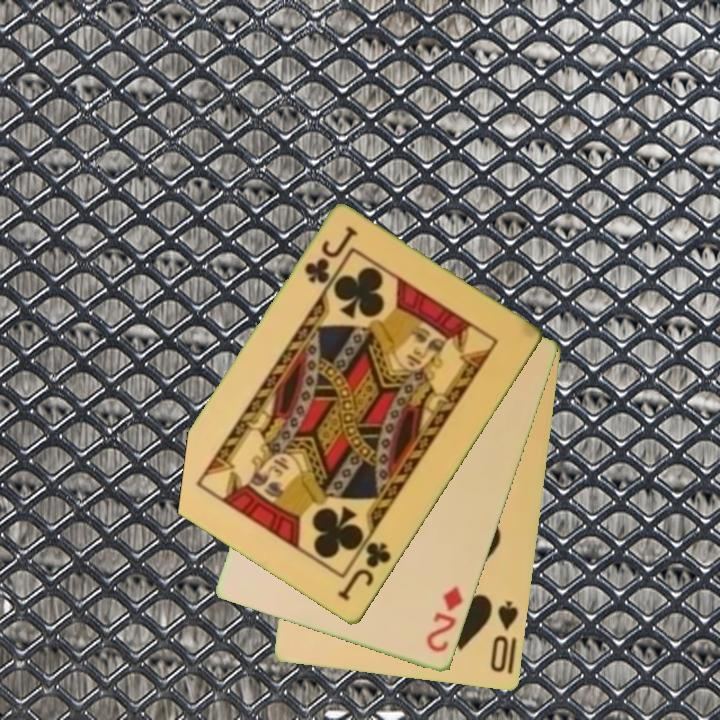10s: (487, 598, 522, 676)
2d: (423, 583, 467, 656)
Jc: (334, 539, 395, 605), (300, 223, 361, 288)
